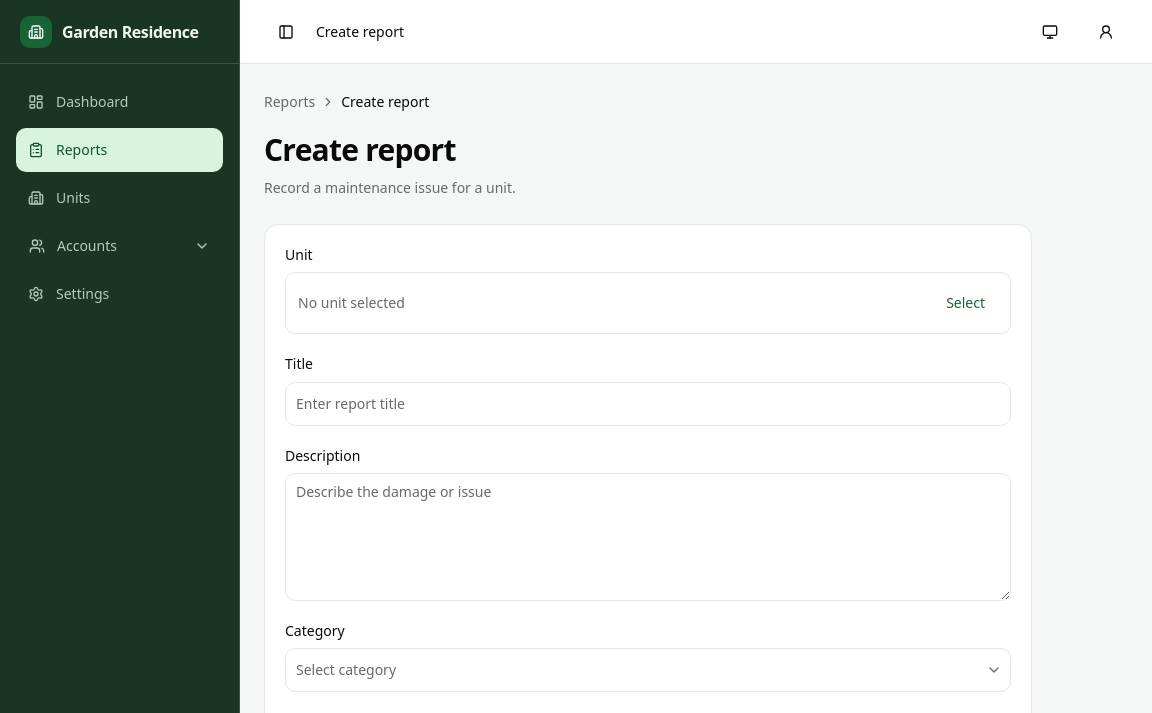
Scenario: offers unit read retry and distinguishes no units from unmatched units
This screenshot has width=1152, height=713.
Expected: the heading "Create report" is shown, [264, 129, 456, 170]
Click the button "Select" at {"x": 966, "y": 303}, box [929, 281, 1002, 325]
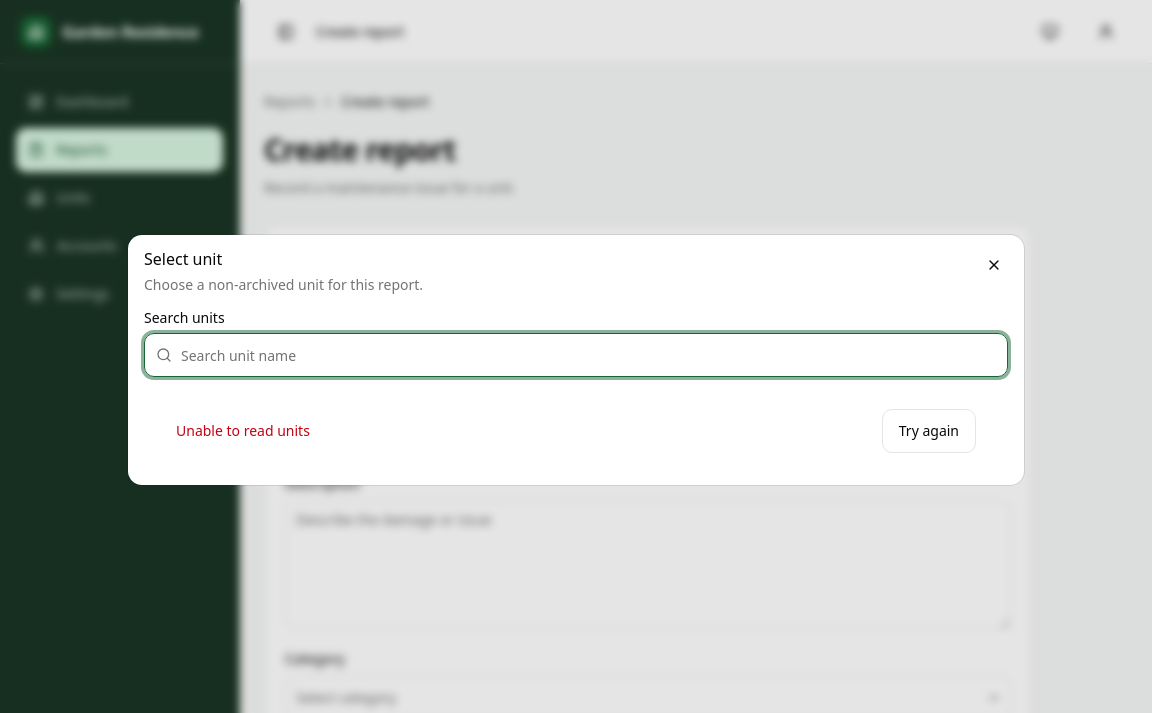
Expected: the text "Unable to read units" is shown, [176, 421, 310, 440]
Click the button "Try again" at {"x": 929, "y": 431}, box [882, 409, 976, 453]
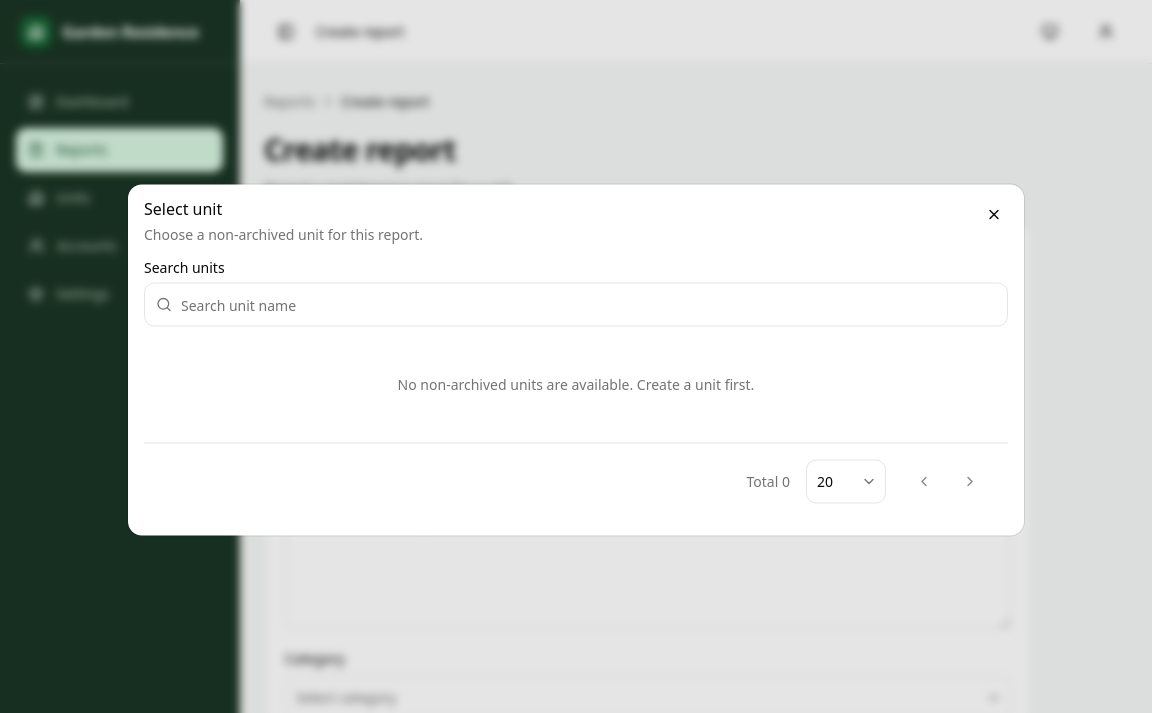
Expected: the text "No non-archived units are available. Create a unit first." is shown, [398, 374, 754, 394]
Type "missing" into the search field labelled "Search units" at {"x": 576, "y": 304}, box [144, 282, 1008, 326]
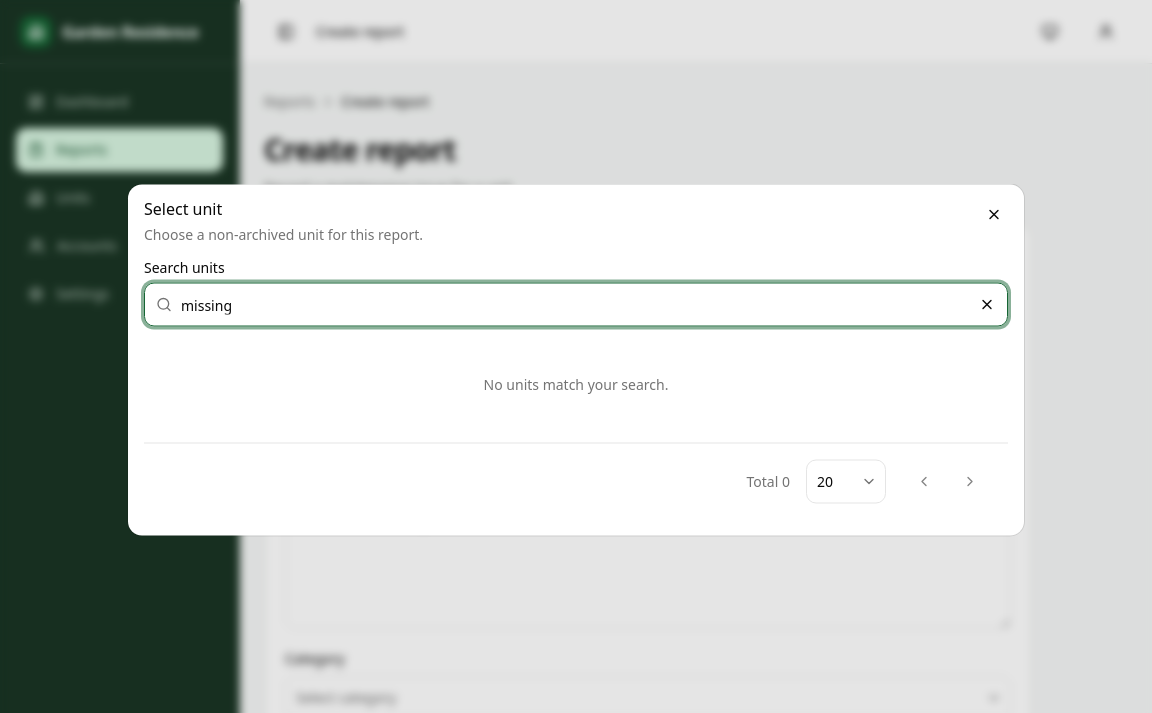
Expected: the text "No units match your search." is shown, [484, 374, 668, 394]
